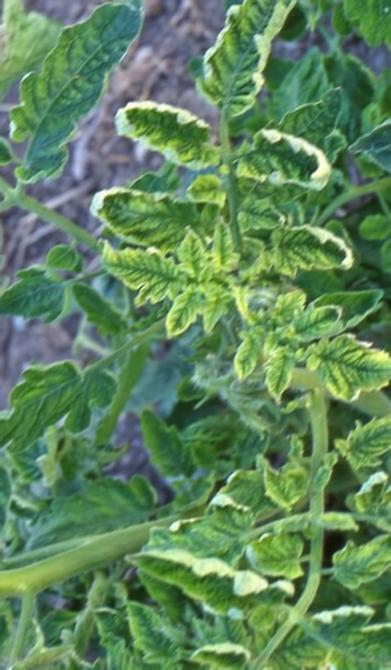Tomato leaf yellow virus: (199, 0, 318, 117), (112, 98, 220, 179), (302, 329, 391, 403), (96, 237, 188, 302), (240, 127, 335, 186), (270, 225, 356, 277), (244, 527, 311, 583), (339, 414, 391, 472), (171, 226, 211, 280)
